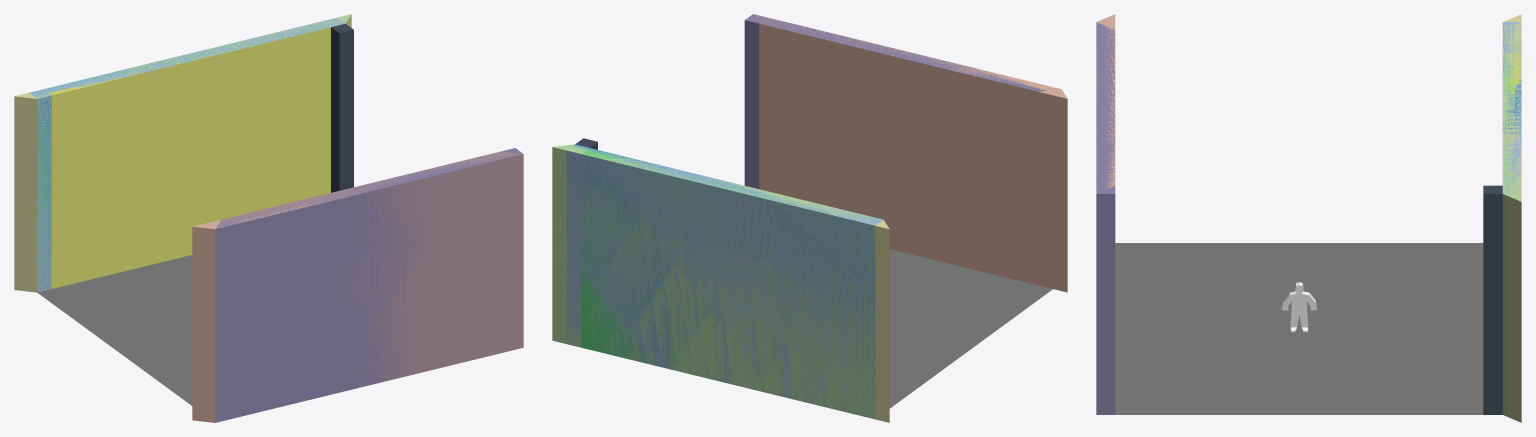
File: Walls and Floors with Doors.fbx_Scene_Master_Collection.fbx
3 views of the same model, side by side, from view 1: azimuth 30°, elevation 25°; view 2: azimuth 150°, elevation 25°; view 3: azimuth 270°, elevation 25° (orthographic). The views are drawn at different scales.
Visible parts, largest first — view 1: PWall Short, CWall Inner Flat, CWall Inner Inner, PWall Short Door, CWall Inner Inner Door, CWall Inner Flat Door, Floor(15x15), CWall Outer Outer, CWall Flat Flat, CWall Inner Outer, Post, CWall Inner Outer Door (+6 smaller); view 2: CWall Inner Outer, CWall Flat Flat, CWall Outer Flat, CWall Inner Outer Door, CWall Flat Flat Door, Floor(15x15), CWall Outer Flat Door, PWall Mid, PWall Long Door, CWall Inner Flat, CWall Outer Outer Door, CWall Outer Outer (+2 smaller); view 3: Floor(15x15), CWall Inner Flat, CWall Outer Outer, Post, CWall Outer Outer Door, CWall Inner Flat Door, CWall Outer Flat, CWall Outer Flat Door, CWall Inner Outer, Character Scale, CWall Flat Flat Door, CWall Flat Flat (+1 smaller).
Part boxes in pixels (x1,y1,x2,y2): PWall Short: (49, 27, 330, 288); CWall Inner Flat: (215, 148, 522, 422); CWall Inner Inner: (216, 151, 523, 389); PWall Short Door: (50, 28, 330, 287); CWall Inner Inner Door: (220, 151, 523, 373); CWall Inner Flat Door: (215, 148, 520, 422); Floor(15x15): (37, 255, 192, 405); CWall Outer Outer: (14, 14, 351, 292); CWall Flat Flat: (29, 18, 344, 292); CWall Inner Outer: (192, 193, 356, 422); Post: (331, 23, 353, 192); CWall Inner Outer Door: (192, 164, 450, 422); CWall Inner Outer: (754, 14, 1067, 292); CWall Flat Flat: (566, 150, 882, 415); CWall Outer Flat: (552, 144, 879, 419); CWall Inner Outer Door: (755, 15, 1067, 292); CWall Flat Flat Door: (566, 151, 882, 416); Floor(15x15): (889, 249, 1052, 408); CWall Outer Flat Door: (552, 144, 879, 418); PWall Mid: (581, 149, 874, 406); PWall Long Door: (567, 145, 875, 385); CWall Inner Flat: (744, 14, 1046, 188); CWall Outer Outer Door: (552, 146, 889, 421); CWall Outer Outer: (552, 146, 889, 422); Floor(15x15): (1115, 243, 1483, 414); CWall Inner Flat: (1096, 22, 1115, 414); CWall Outer Outer: (1502, 14, 1521, 422); Post: (1483, 185, 1502, 414); CWall Outer Outer Door: (1502, 15, 1521, 422); CWall Inner Flat Door: (1096, 23, 1115, 414); CWall Outer Flat: (1502, 24, 1521, 416); CWall Outer Flat Door: (1502, 22, 1521, 415); CWall Inner Outer: (1096, 14, 1115, 188); Character Scale: (1282, 282, 1316, 332); CWall Flat Flat Door: (1502, 22, 1521, 193); CWall Flat Flat: (1502, 22, 1520, 193).
Bounding box in the file's own units: 1641 × 900 × 1571.
